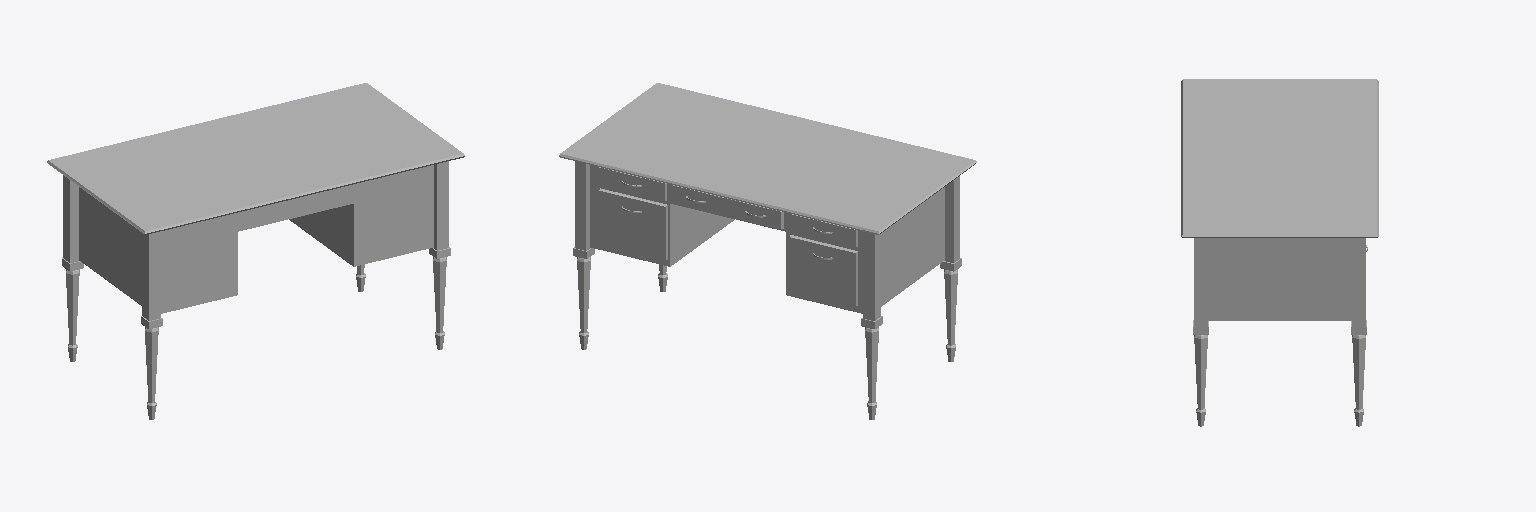
File: desk.obj
3 renders of one model, left to right at view 1: azimuth 30°, elevation 25°; view 2: azimuth 150°, elevation 25°; view 3: azimuth 270°, elevation 25°, orthographic.
Parts seen in each view (by area): view 1: mesh; view 2: mesh; view 3: mesh.
Part boxes in pixels (left/top/right/bottom): mesh: left=47, top=83, right=464, bottom=419; mesh: left=559, top=83, right=976, bottom=419; mesh: left=1181, top=79, right=1378, bottom=426.
Bounding box in the file's own units: 69.55 × 41.05 × 37.02.